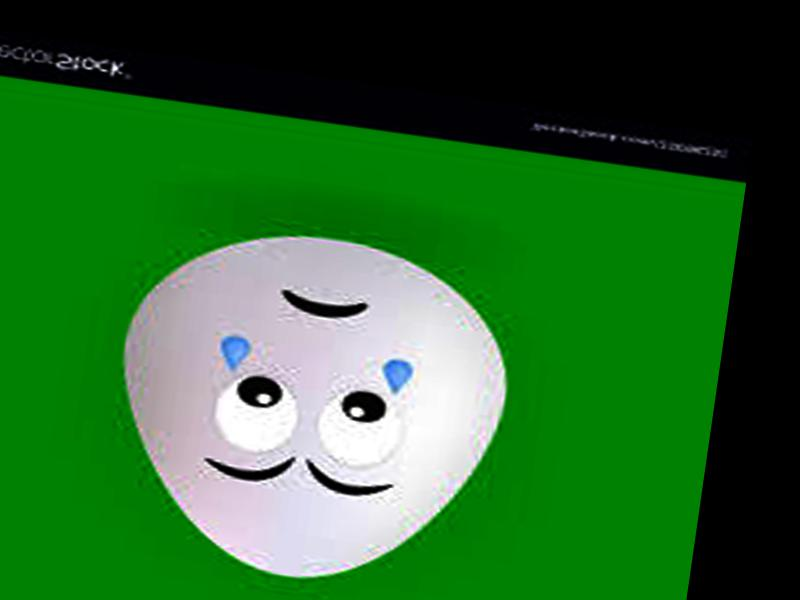Eggs: (92, 211, 521, 600)
